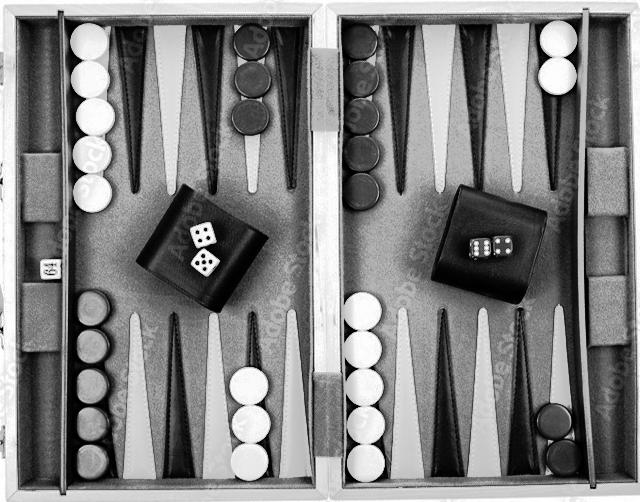bar: (307, 26, 346, 476)
board: (65, 16, 589, 486)
dark_p: (69, 401, 116, 444), (69, 440, 114, 483), (230, 21, 277, 62), (70, 364, 115, 406), (71, 286, 114, 329), (544, 437, 587, 479), (232, 57, 275, 98), (531, 401, 574, 441), (230, 97, 271, 138), (71, 328, 115, 366), (341, 173, 381, 213), (343, 133, 383, 172), (344, 96, 385, 134), (341, 22, 381, 60), (342, 60, 384, 96)
dice: (188, 249, 224, 279), (187, 220, 220, 249), (464, 234, 495, 263), (35, 256, 64, 285), (491, 232, 515, 259)
light_p: (341, 291, 387, 334), (341, 329, 387, 371), (228, 366, 272, 407), (536, 20, 582, 59), (534, 58, 581, 96), (347, 443, 389, 485), (345, 368, 389, 408), (230, 405, 274, 444), (72, 173, 113, 214), (75, 97, 117, 137), (229, 441, 271, 481), (347, 404, 387, 446), (69, 22, 110, 61), (72, 134, 113, 173), (71, 61, 109, 99)
